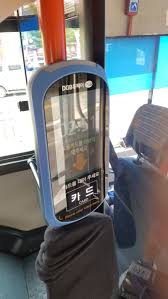terminal: (25, 58, 124, 228)
